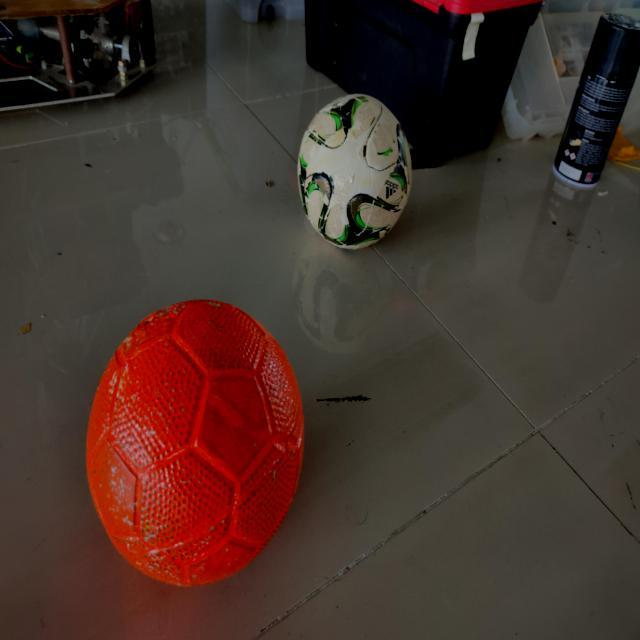bola: (82, 294, 308, 592)
